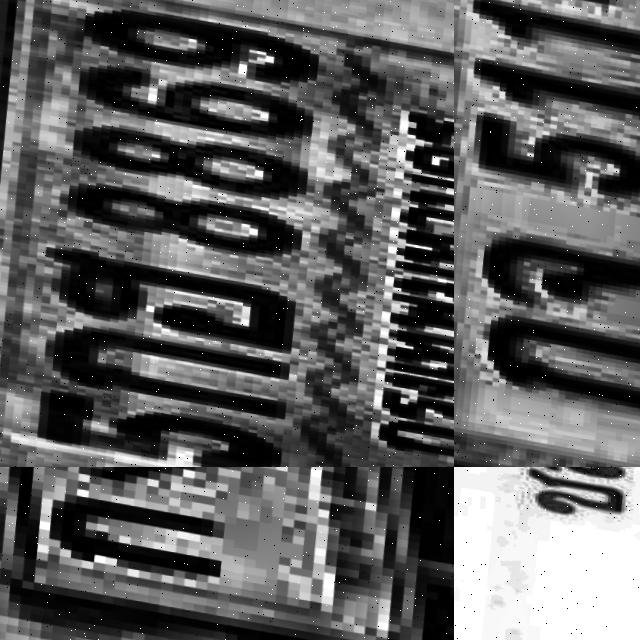license-plate: (0, 0, 454, 467), (454, 0, 640, 467), (0, 467, 454, 640), (454, 467, 640, 640)
